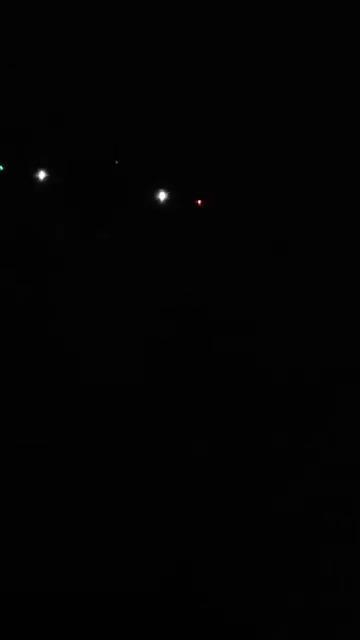Plane: (0, 120, 210, 237)
